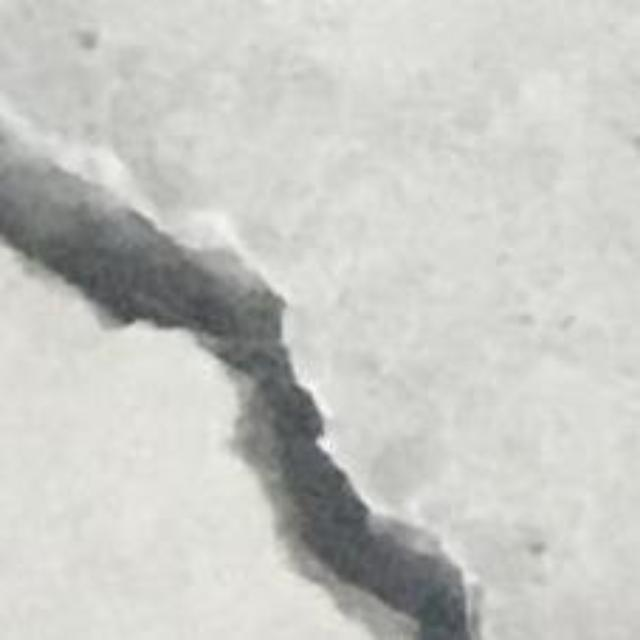crack: (0, 133, 479, 639)
